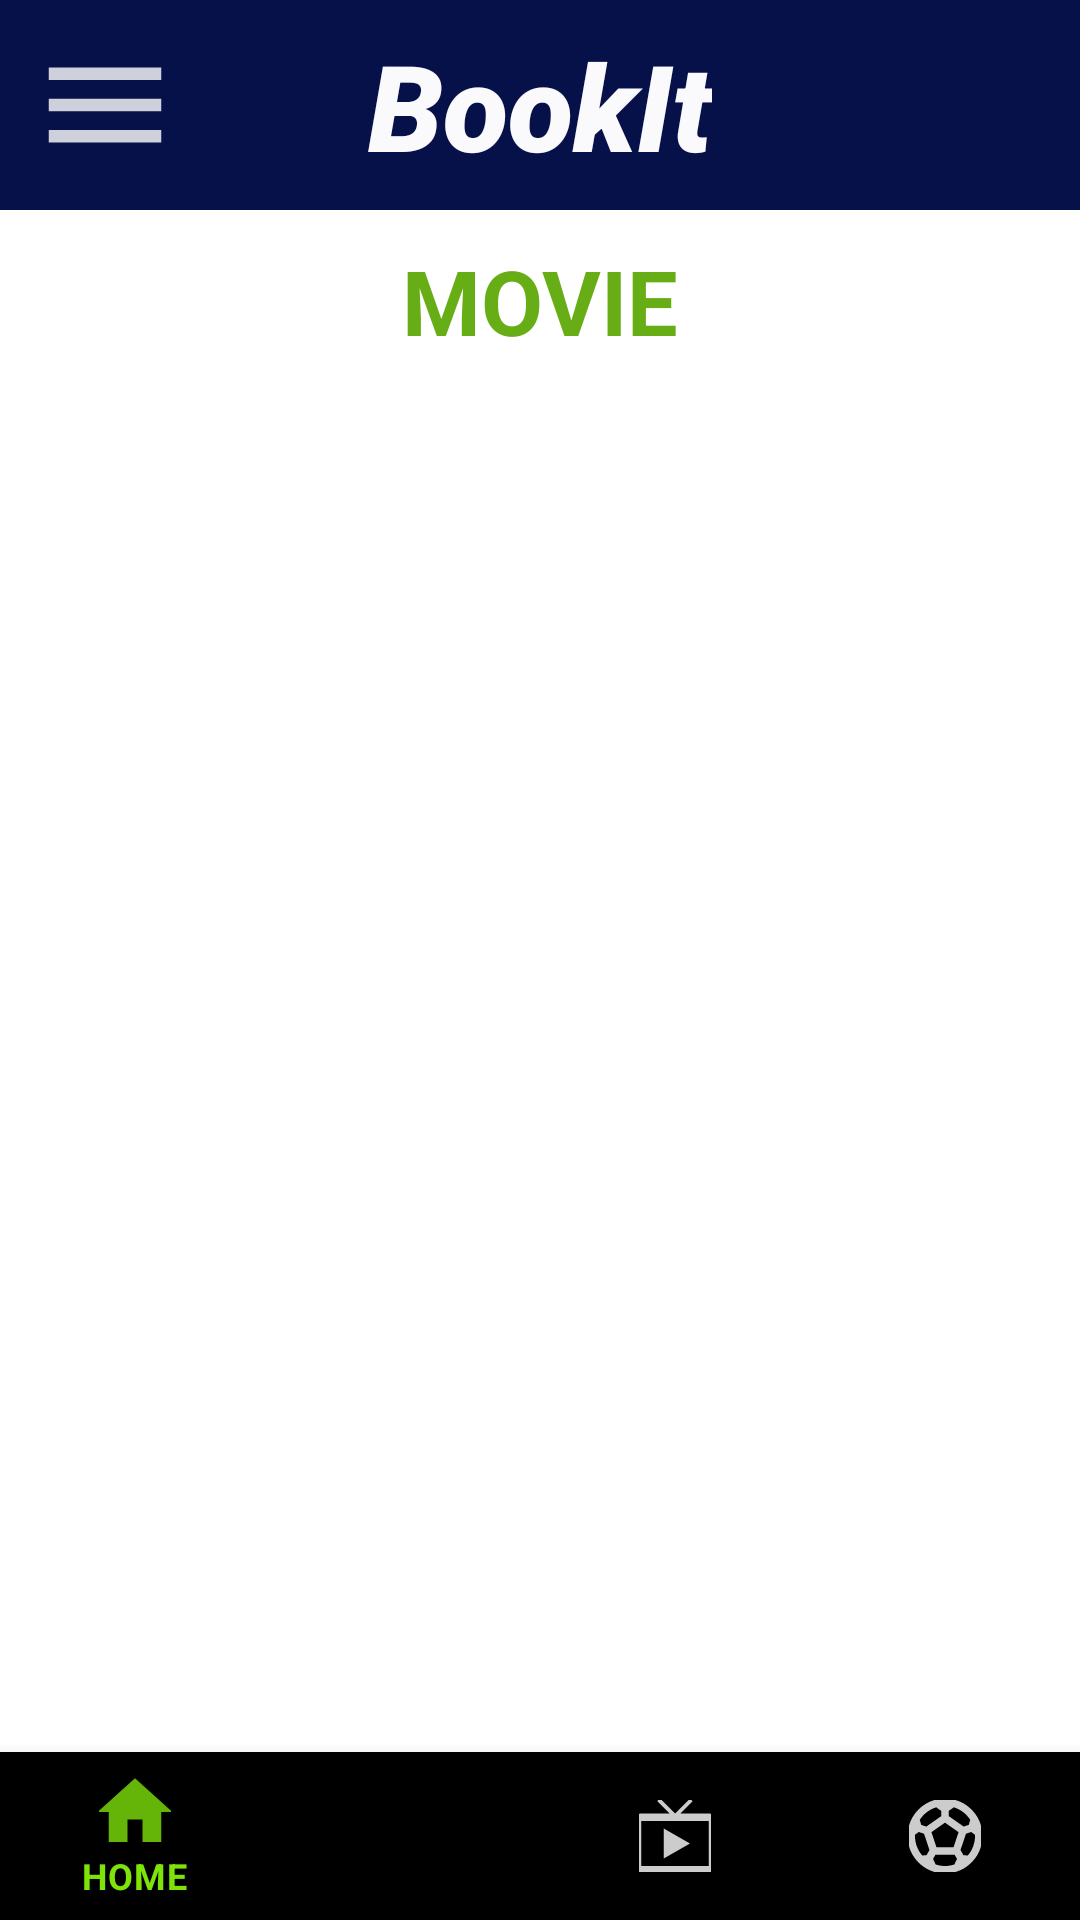

Icons on this 1080w x 1920h Android screen, each with its box as rect(x1, y1, x2, y2):
menu: rect(48, 67, 162, 143)
